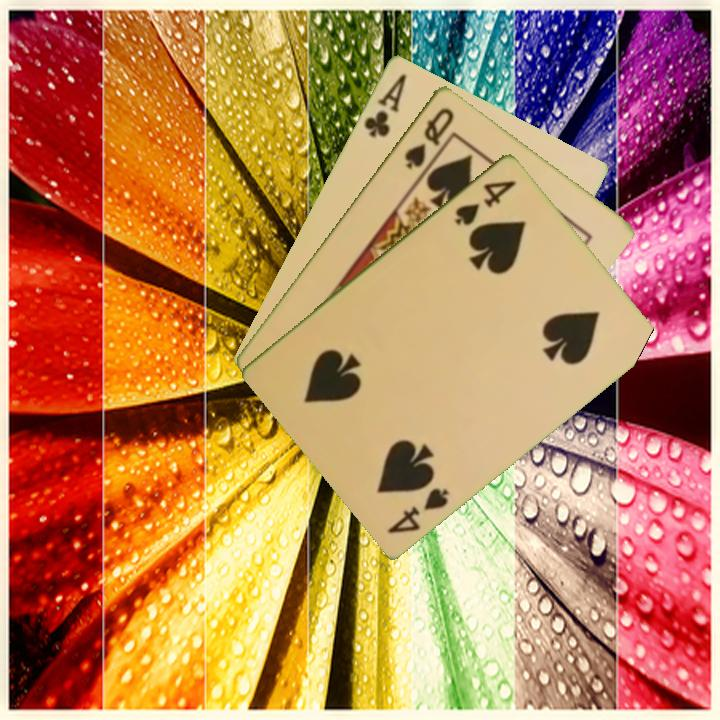4s: (451, 175, 520, 228), (384, 483, 452, 536)
Ac: (360, 69, 409, 140)
Qs: (400, 103, 457, 172)
